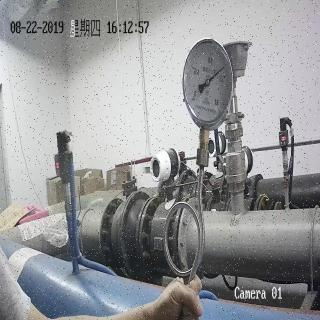gauge: (179, 35, 236, 128), (215, 104, 223, 120), (187, 94, 196, 104), (205, 77, 212, 87), (220, 65, 225, 71)
